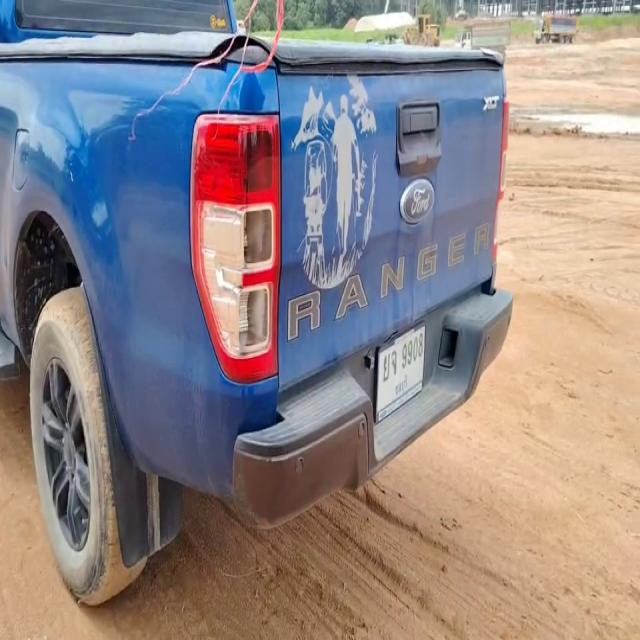Digit: (402, 330, 423, 370)
Licenseplate: (373, 317, 428, 428)
Provincename: (396, 375, 408, 396)
Thaichar: (382, 348, 398, 384)
